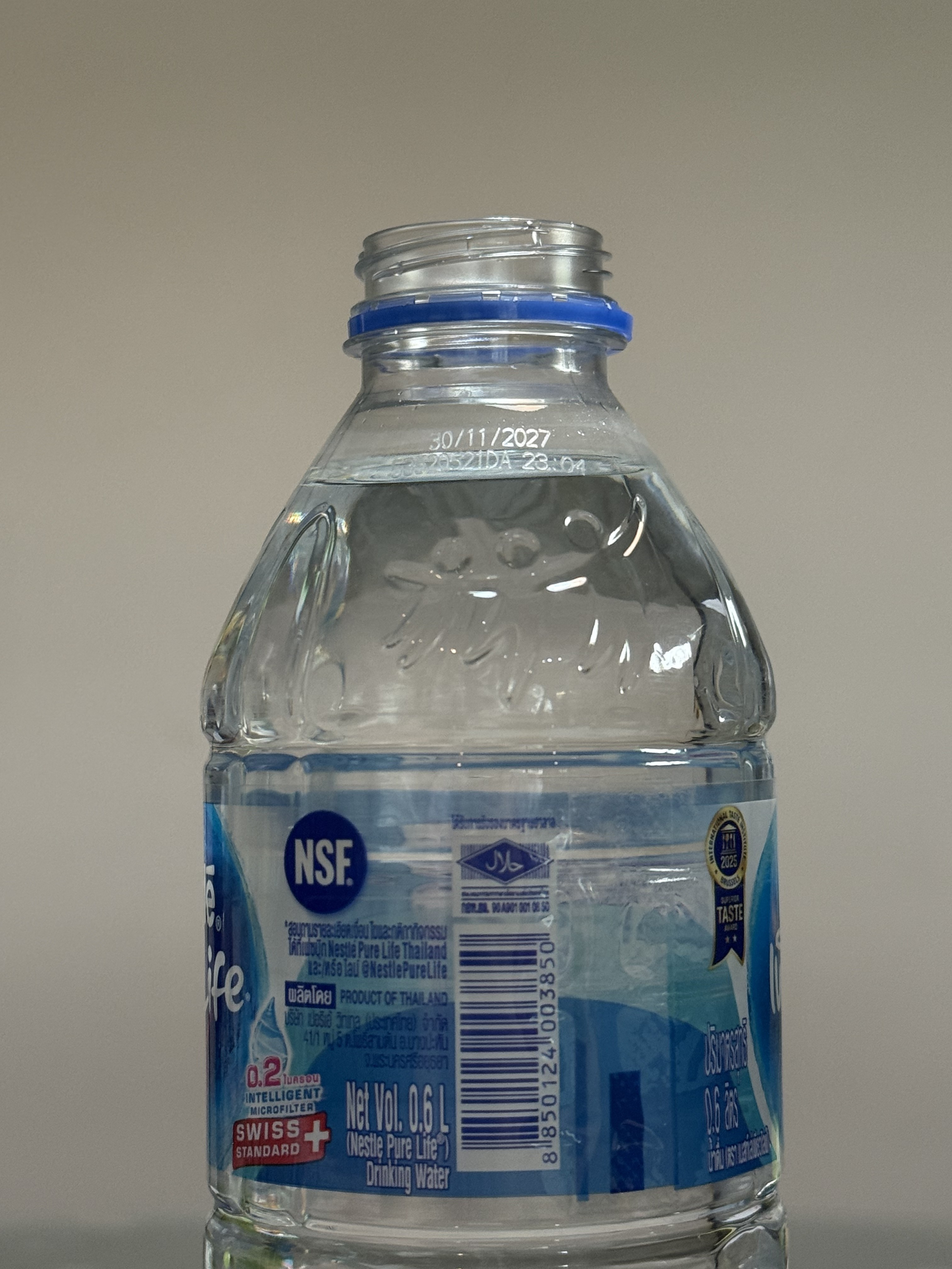no_cap: (343, 212, 634, 348)
